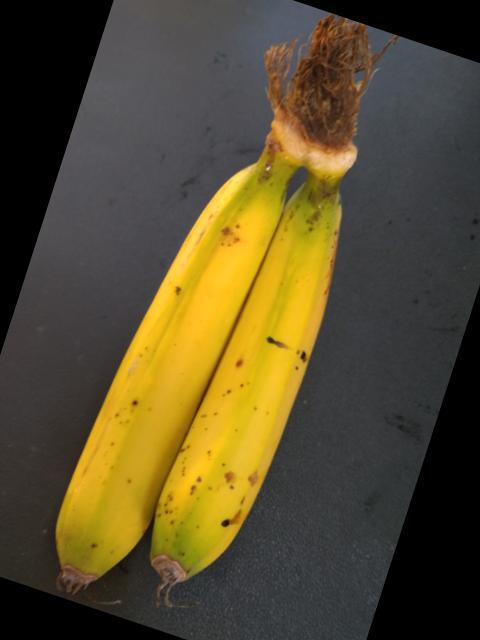freshripe: (31, 180, 268, 602)
ripe: (149, 204, 361, 590)
